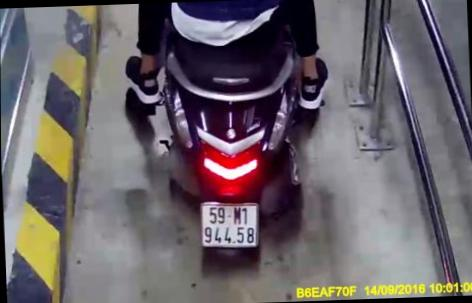LP: (198, 198, 260, 252)
